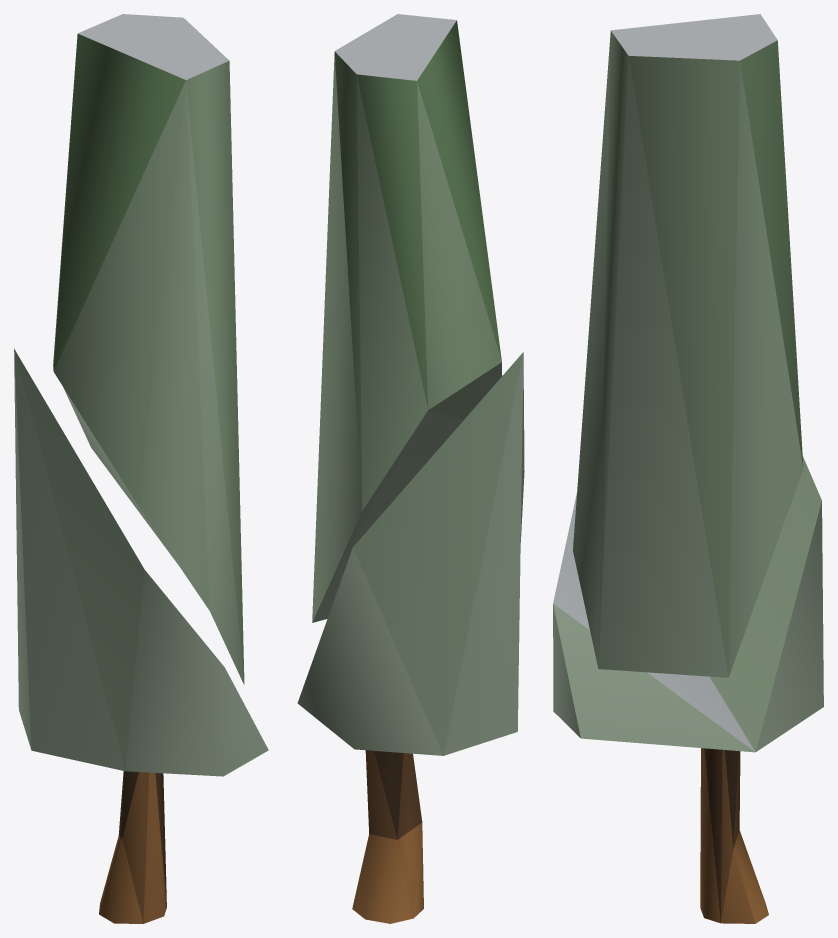
Rendered from angular_tree_spire__winter.glb.
3 views of the same model, side by side, from view 1: azimuth 30°, elevation 25°; view 2: azimuth 150°, elevation 25°; view 3: azimuth 270°, elevation 25° (orthographic). The views are drawn at different scales.
Bounding box in the file's own units: 1.37 × 5.4 × 1.51.
